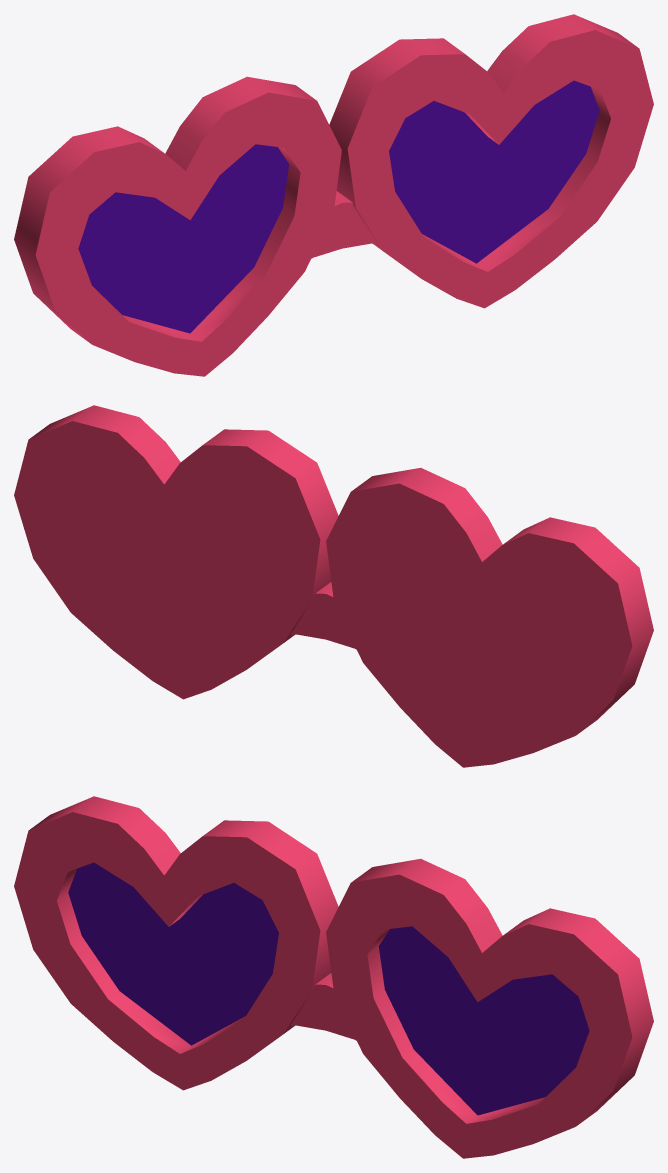
Rendered from Eyewear_9.fbx.
3 views of the same model, one above another, from view 1: azimuth 30°, elevation 25°; view 2: azimuth 150°, elevation 25°; view 3: azimuth 330°, elevation 25° (orthographic).
Visible parts, largest first — view 1: Eyewear_9; view 2: Eyewear_9; view 3: Eyewear_9.
Part boxes in pixels (x1=…): Eyewear_9: x1=14, y1=14, x2=653, y2=376; Eyewear_9: x1=14, y1=405, x2=653, y2=767; Eyewear_9: x1=14, y1=796, x2=653, y2=1158.
Size of the model in its own units: 61.25 by 25.43 by 3.69.
